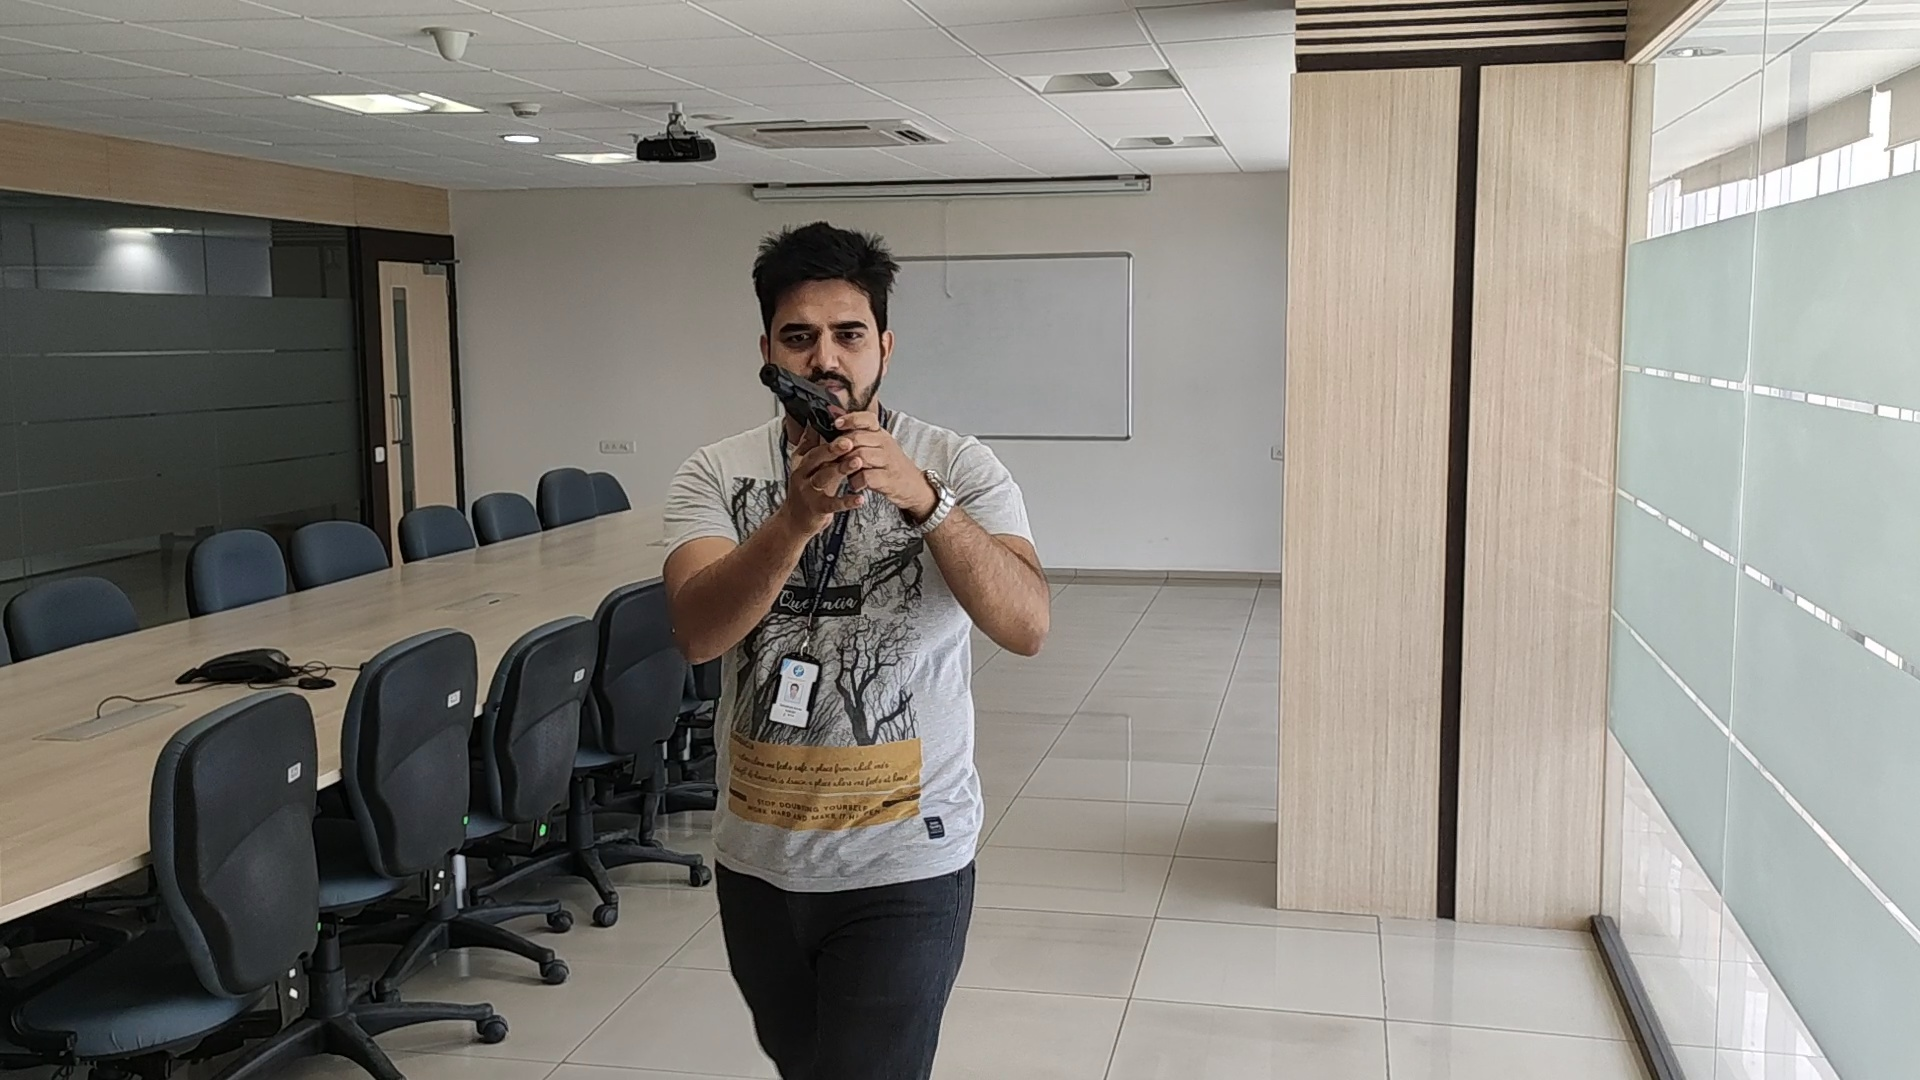gun: (760, 364, 847, 415)
